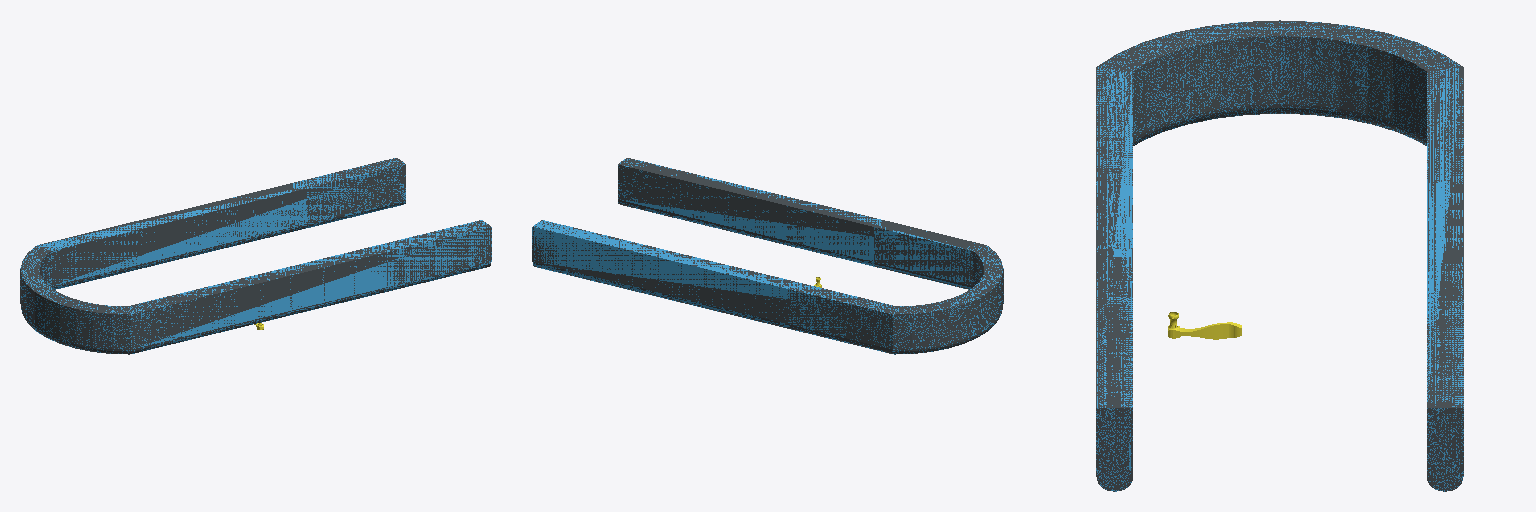
URDF robot description (right-pull-door):
<?xml version="1.0" ?>
<robot name="right-pull-door">
	<link name="base"/>
	<link name="link_0">
		<visual name="out-frame">
			<origin xyz="0 0 0"/>
			<geometry>
				<mesh filename="texture_dae/frame.dae" scale="0.7256157167437052 0.7256157167437052 0.7256157167437052"/>
			</geometry>
		</visual>
		<collision>
			<origin xyz="0 0 0"/>
			<geometry>
				<mesh filename="texture_dae/frame.dae" scale="0.7256157167437052 0.7256157167437052 0.7256157167437052"/>
			</geometry>
		</collision>
	</link>
	<joint name="joint_0" type="fixed">
		<origin rpy="1.570796326794897 0 -1.570796326794897" xyz="0 0 0"/>
		<child link="link_0"/>
		<parent link="base"/>
	</joint>
	<link name="link_1">
		<visual name="surf-board">
			<origin xyz="0.2897215559504412 -0.8330896486361368 0"/>
			<geometry>
				<mesh filename="texture_dae/board.dae" scale="0.7256157167437052 0.7256157167437052 0.7256157167437052"/>
			</geometry>
		</visual>
		<collision>
			<origin xyz="0.2897215559504412 -0.8330896486361368 0"/>
			<geometry>
				<mesh filename="texture_dae/board.dae" scale="0.7256157167437052 0.7256157167437052 0.7256157167437052"/>
			</geometry>
		</collision>
	</link>
	<joint name="joint_1" type="revolute">
		<origin xyz="-0.2897215559504412 0.8330896486361368 0"/>
		<axis xyz="0 -1 0"/>
		<child link="link_1"/>
		<parent link="link_0"/>
		<limit lower="0" upper="1.5079644737231006"/>
	</joint>
	<link name="link_2">
		<visual name="handle">
			<origin xyz="0 0 0"/>
			<geometry>
				<mesh filename="texture_dae/9960006.dae" scale="2.0909242239296537 2.0909242239296537 2.0909242239296537"/>
			</geometry>
		</visual>
		<collision>
			<origin xyz="0 0 0"/>
			<geometry>
				<mesh filename="texture_dae/9960006.dae" scale="2.0909242239296537 2.0909242239296537 2.0909242239296537"/>
			</geometry>
		</collision>
	</link>
	<joint name="joint_2" type="revolute">
		<origin xyz="0.5004925182481696 -0.9411824802108322 0.027711846456493213"/>
		<child link="link_2"/>
		<parent link="link_1"/>
		<axis xyz="0 0 1"/>
		<limit lower="0" upper="1.5079644737231006"/>
	</joint>
</robot>

--- Facts derived from the render (not from the file) ---
Views: 3 orthographic renders of the robot side by side, from view 1: azimuth 30°, elevation 25°; view 2: azimuth 150°, elevation 25°; view 3: azimuth 270°, elevation 25°.
Model right-pull-door with 4 links and 3 joints (2 revolute, 1 fixed), rooted at base, posed all joints at 0.
Visible links, largest first — view 1: link_0; view 2: link_0; view 3: link_0, link_2.
Boxes of the visible links, x1,y1,x2,y2 form: link_0: (20,158,491,354); link_0: (532,158,1003,354); link_0: (1096,20,1463,491); link_2: (1168,312,1241,339).
Size in the robot's own frame: 1.81 by 0.7256 by 0.2858 metres.
2 mesh visuals loaded from 3 distinct referenced files (2 Collada DAE); not drawn: 1 (reference not matched to a file when rendering).
